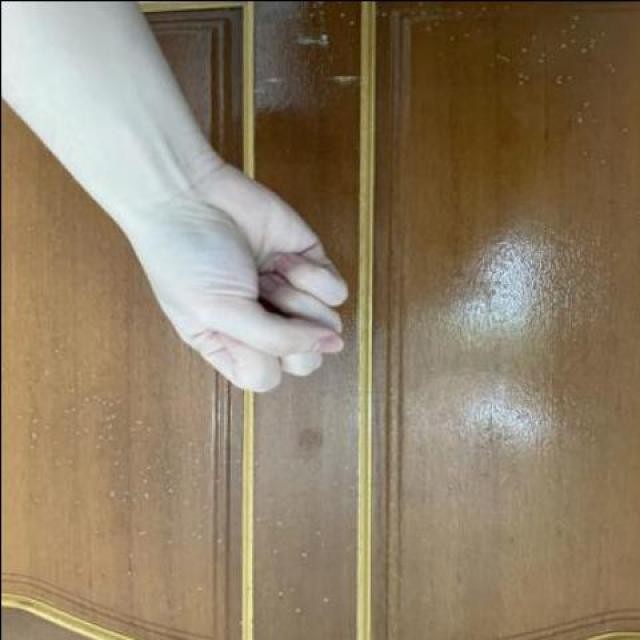Closed Hand: (133, 154, 352, 407)
